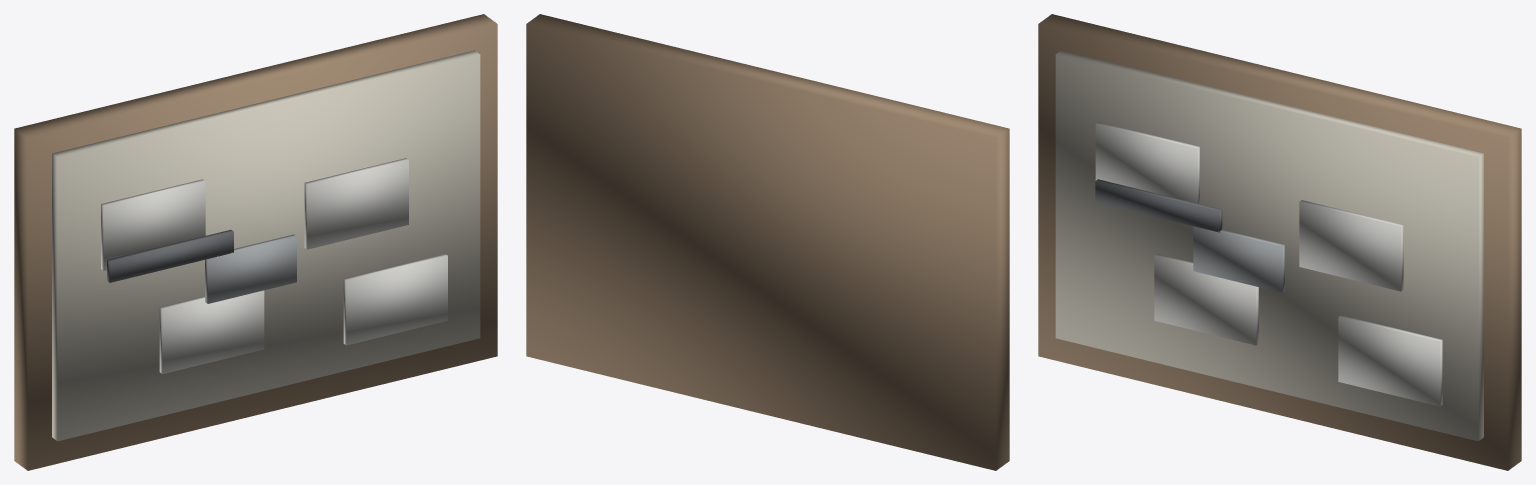
Rendered from service_log_clipboard_rack__weathered.glb.
The picture shows the model from 3 angles, left to right: view 1: azimuth 30°, elevation 25°; view 2: azimuth 150°, elevation 25°; view 3: azimuth 330°, elevation 25°; orthographic projection.
Parts seen in each view (by area): view 1: world; view 2: world; view 3: world.
Part boxes in pixels (<box>): world: <box>14,14,497,470</box>; world: <box>526,14,1009,470</box>; world: <box>1038,14,1521,470</box>.
Size of the model in its own units: 1.2 by 0.8118 by 0.115.
